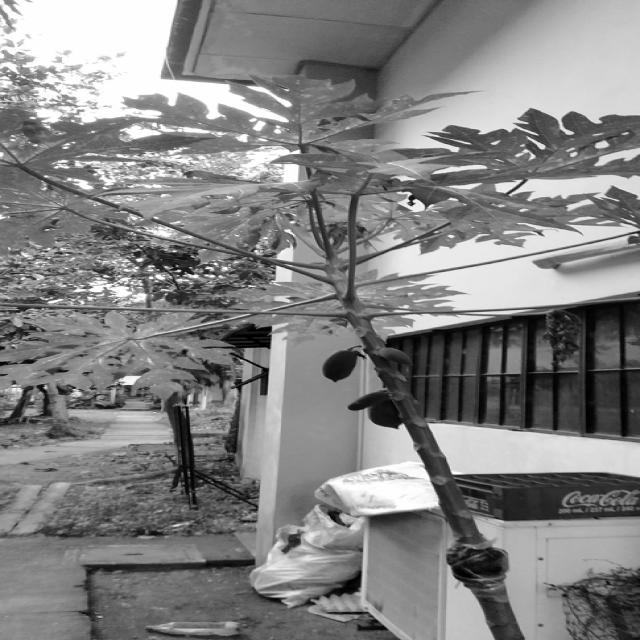Papaya-Tree: (4, 80, 618, 638)
